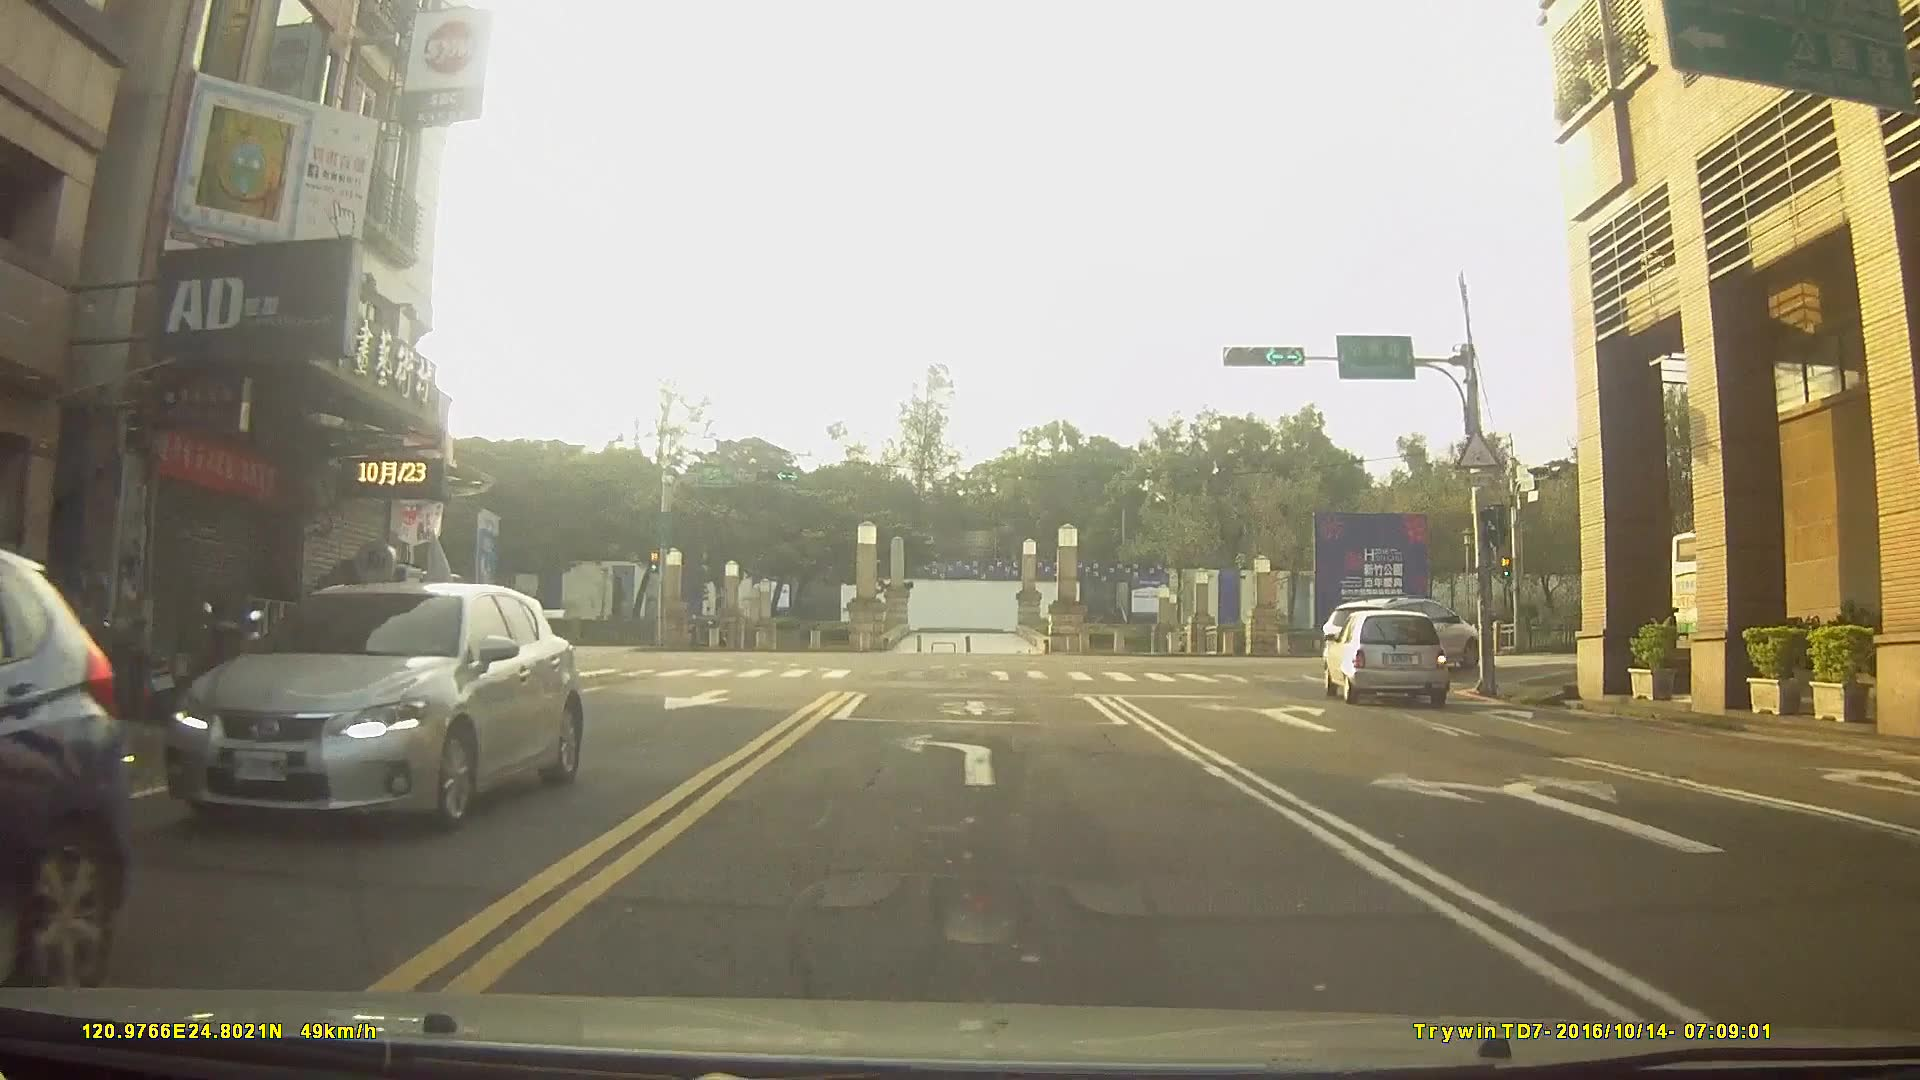vehicle: (161, 579, 579, 829), (0, 545, 131, 997), (1321, 592, 1480, 674), (1321, 609, 1449, 705)
